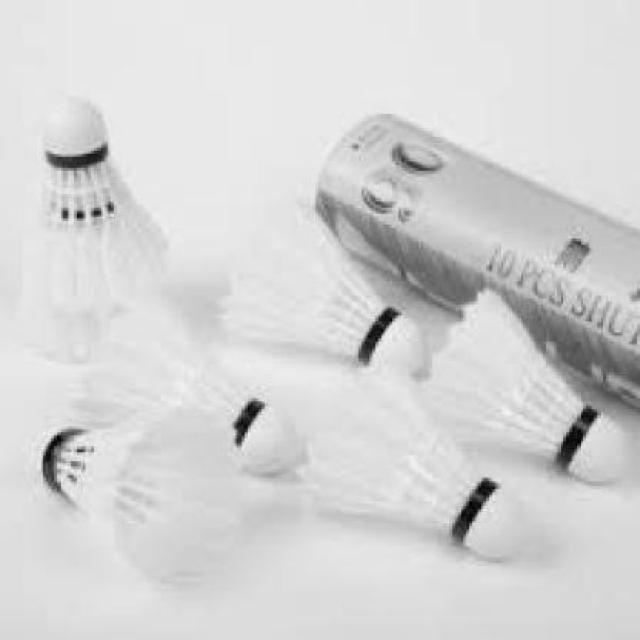Shuttlecock: (296, 371, 538, 572), (38, 400, 254, 589), (11, 90, 178, 318)
